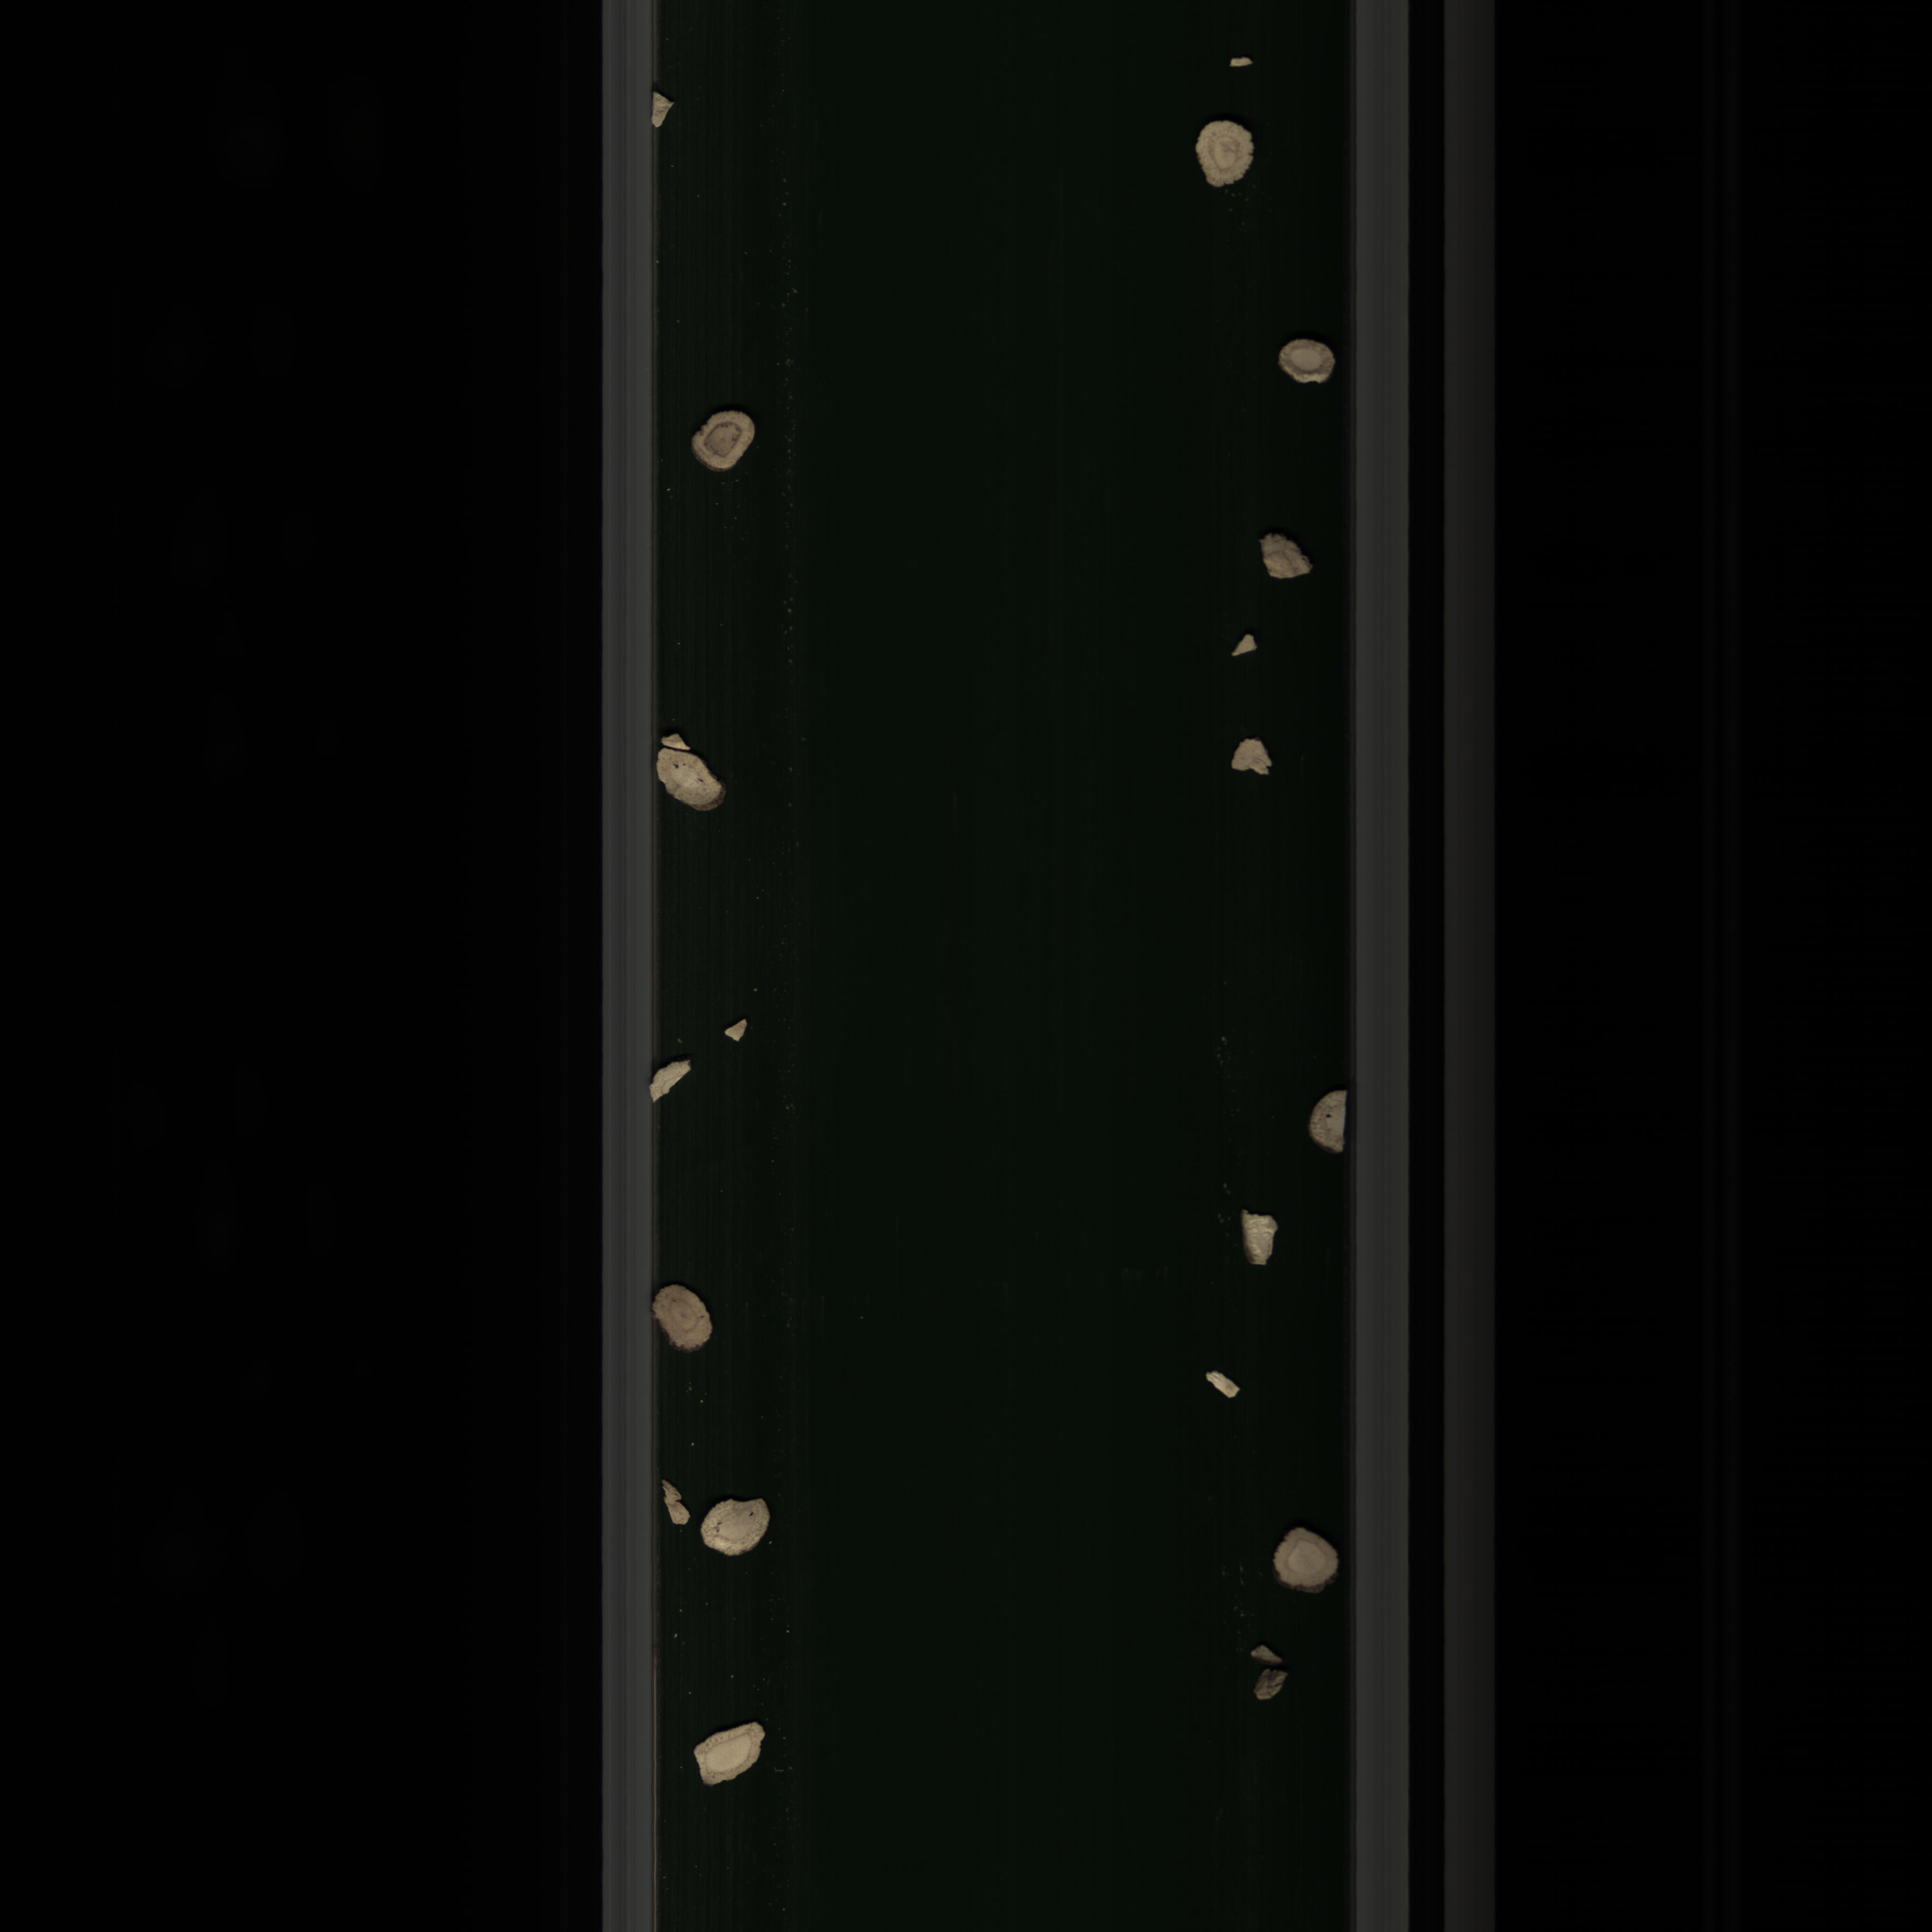bark: (1240, 1637, 1302, 1718)
debris: (649, 718, 734, 824), (1247, 522, 1318, 593), (1226, 1200, 1284, 1283), (1300, 1083, 1359, 1162), (1217, 729, 1281, 784), (651, 1051, 697, 1109), (1194, 1364, 1249, 1403), (656, 1472, 692, 1529), (1219, 632, 1263, 663), (715, 1012, 754, 1046)
moldy: (679, 398, 768, 472), (1274, 333, 1341, 400)
